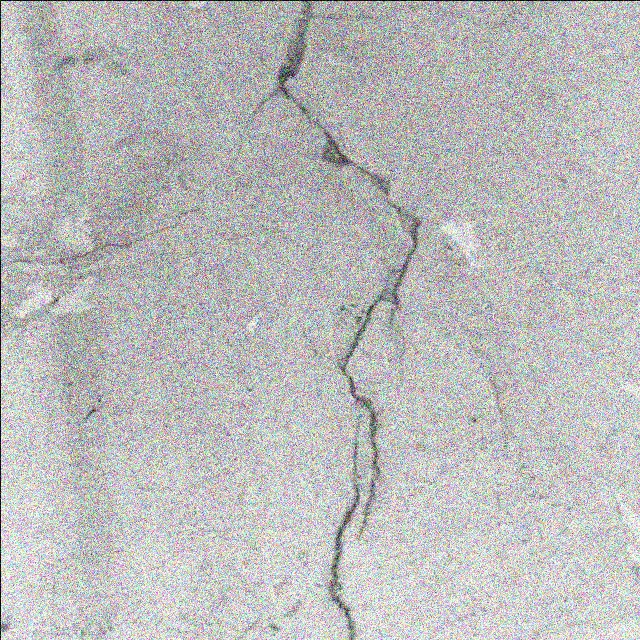SurfaceCrack: (235, 0, 444, 640)
